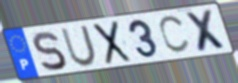3: (126, 18, 162, 60)
C: (158, 14, 193, 56)
S: (31, 30, 68, 73)
U: (59, 24, 99, 68)
X: (183, 8, 231, 54), (92, 19, 134, 67)
